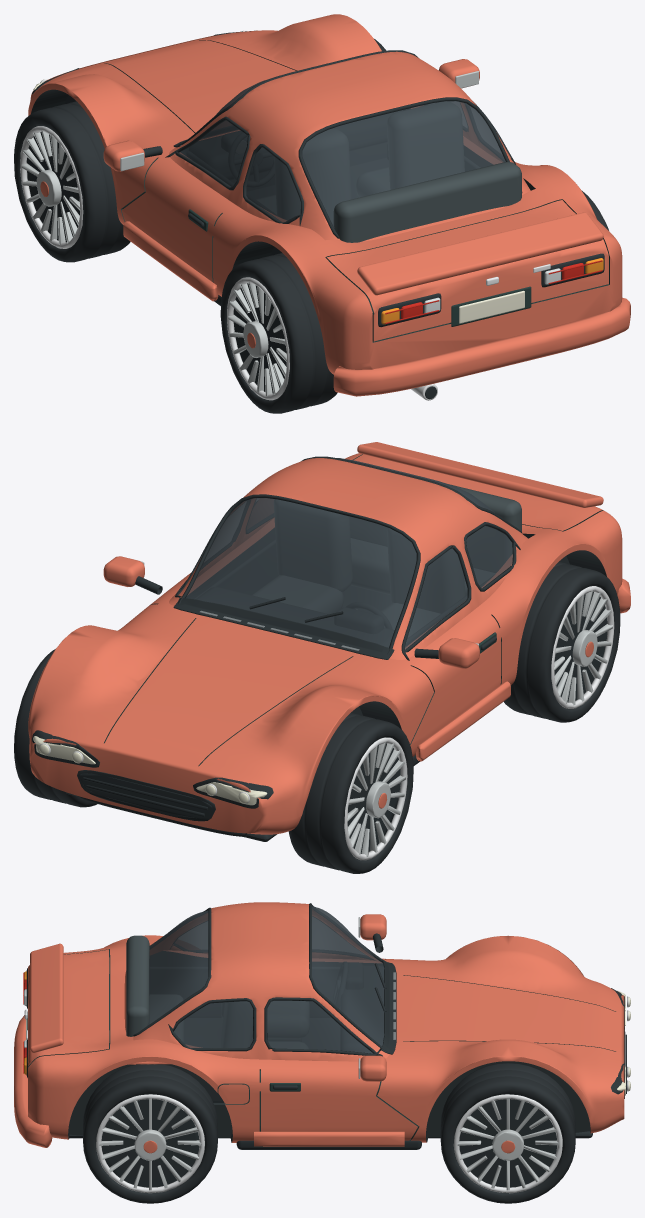
The model's file is sakura_lod1.fbx.
The picture shows the model from 3 angles, top to bottom: view 1: azimuth 30°, elevation 25°; view 2: azimuth 150°, elevation 25°; view 3: azimuth 270°, elevation 25°; orthographic projection. The views are drawn at different scales.
Visible parts, largest first — view 1: Body, Wheel_RL_Mesh, Wheel_FL_Mesh; view 2: Body, Wheel_FL_Mesh, Wheel_RL_Mesh, Wheel_FR_Mesh; view 3: Body, Wheel_FR_Mesh, Wheel_RR_Mesh.
Part boxes in pixels (x1,y1,x2,y2): Body: (28, 14, 630, 400); Wheel_RL_Mesh: (220, 253, 337, 413); Wheel_FL_Mesh: (14, 101, 130, 262); Body: (28, 442, 630, 841); Wheel_FL_Mesh: (288, 713, 413, 873); Wheel_RL_Mesh: (504, 561, 620, 722); Wheel_FR_Mesh: (14, 649, 97, 807); Body: (14, 902, 630, 1149); Wheel_FR_Mesh: (440, 1063, 575, 1203); Wheel_RR_Mesh: (83, 1064, 217, 1203).
Size of the model in its own units: 233 by 146 by 393.
